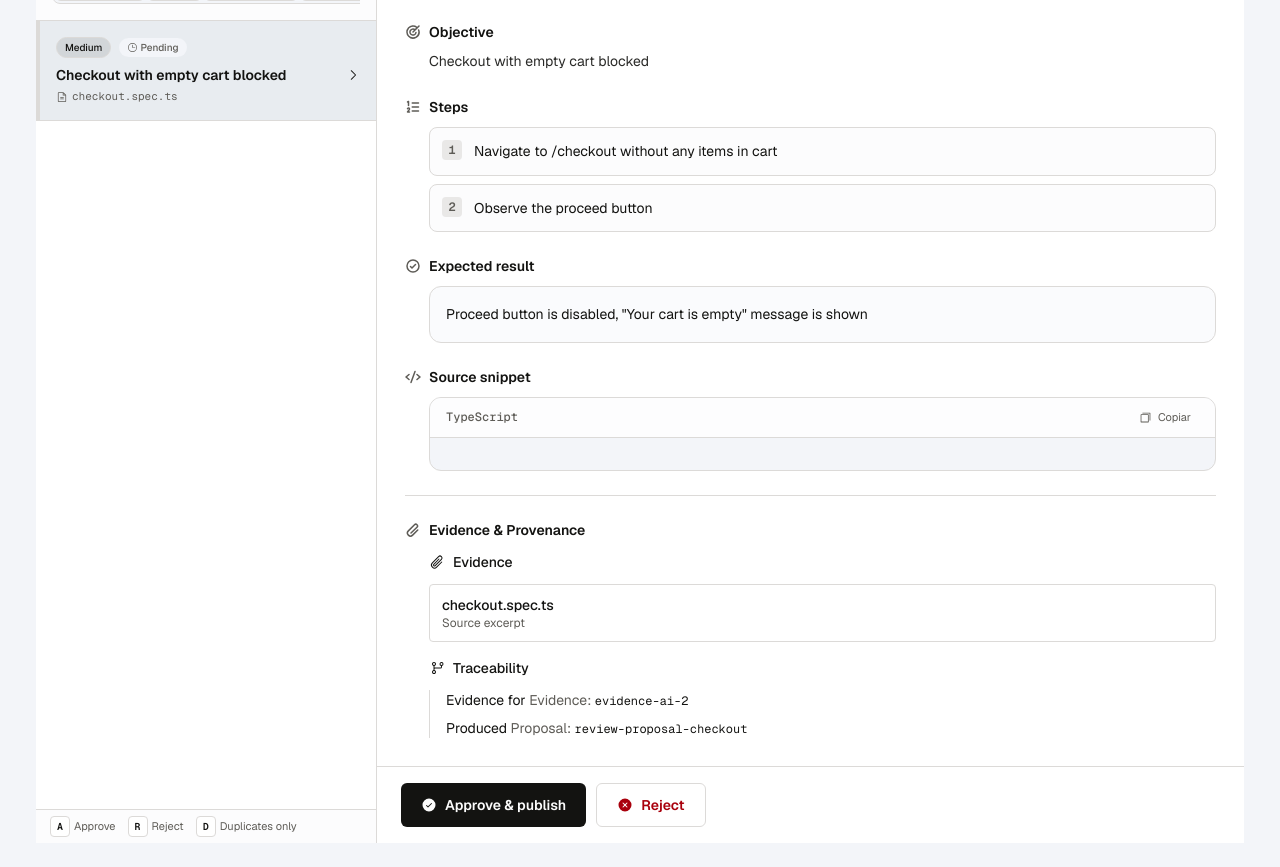
Test case: ReviewInboxPage › approval conflicts › explains an automation key collision with the case name and promises nothing it cannot keep
(page scrolled)
Step 1. Click the button "Approve & publish" → (494, 805), box [401,783,586,827]
(page scrolled)
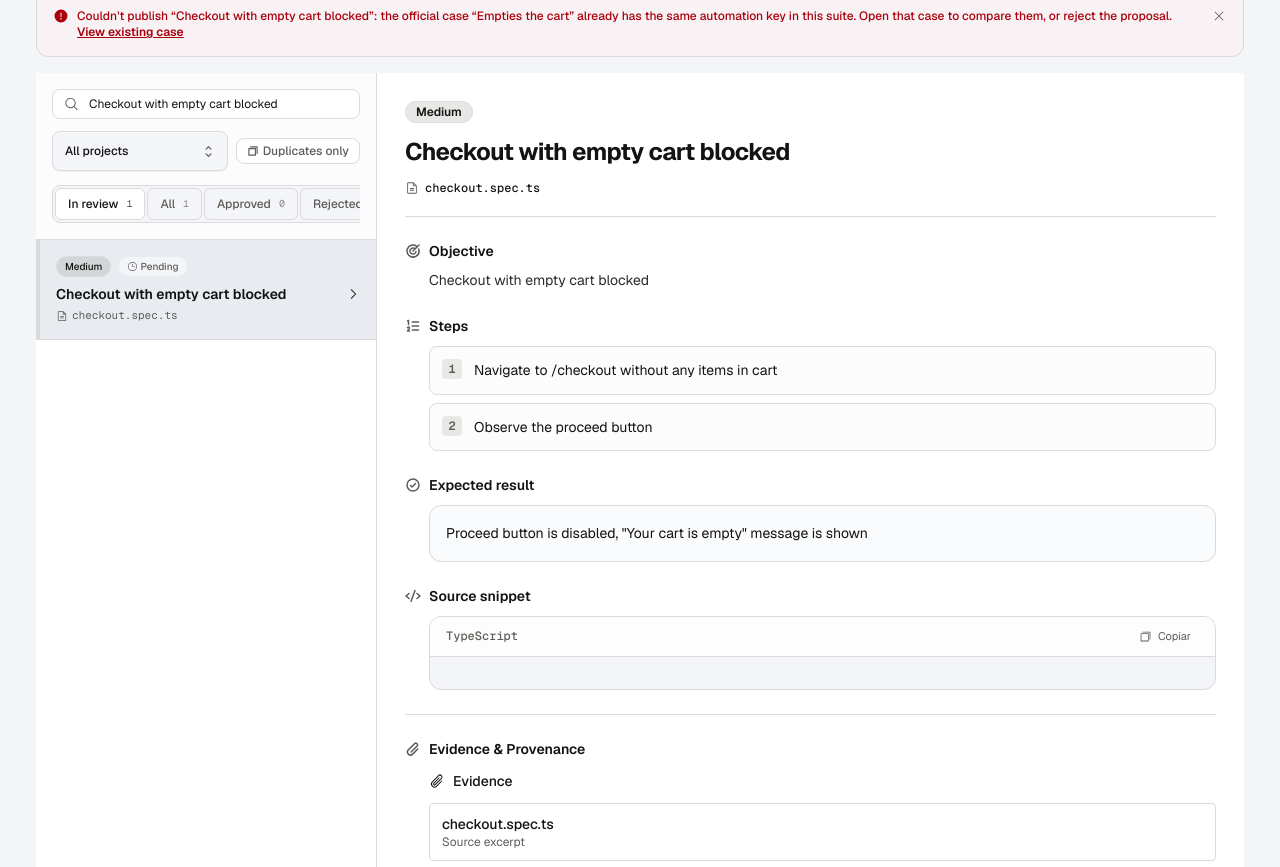
Check: the message shows "Checkout with empty cart blocked", box [77,8,1172,24]
Check: the message shows "the official case .Empties the cart. already has the same automation key", box [77,8,1172,24]
Check: the message shows "open that case to compare them, or reject the proposal", box [77,8,1172,24]
